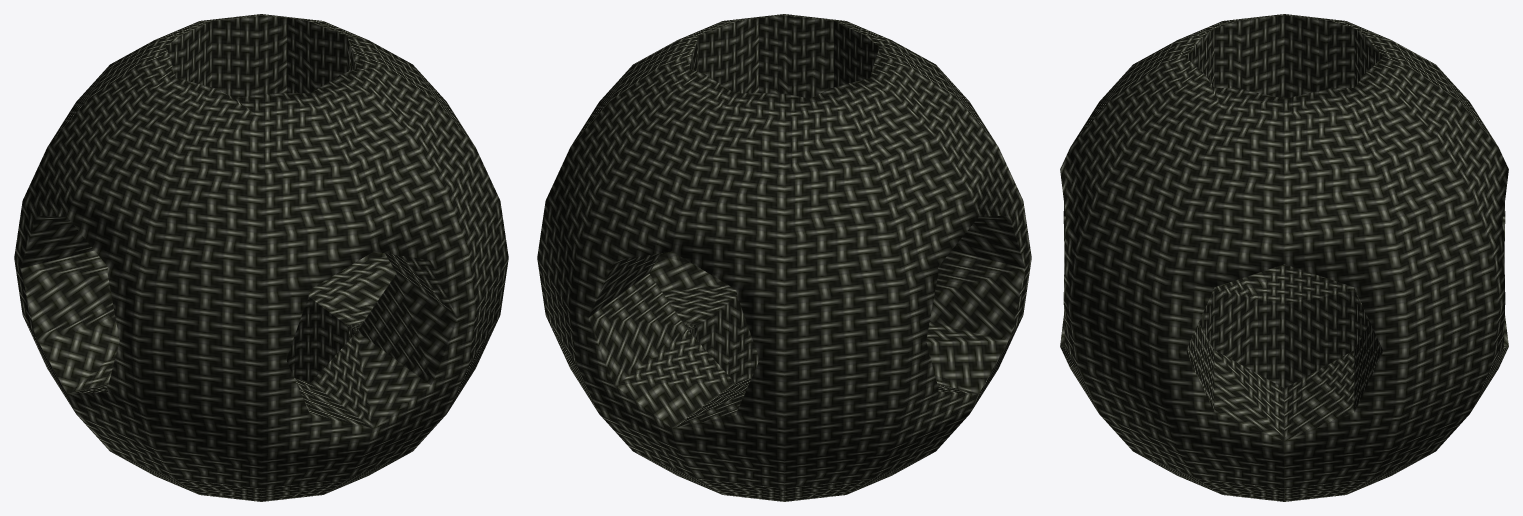
The model's file is orb.obj.
3 renders of one model, left to right at view 1: azimuth 30°, elevation 25°; view 2: azimuth 150°, elevation 25°; view 3: azimuth 270°, elevation 25°, orthographic.
Visible parts, largest first — view 1: Sphere.001_Mesh.002; view 2: Sphere.001_Mesh.002; view 3: Sphere.001_Mesh.002.
Boxes of the visible parts, x1,y1,x2,y2 form: Sphere.001_Mesh.002: [14, 14, 508, 501]; Sphere.001_Mesh.002: [537, 14, 1031, 501]; Sphere.001_Mesh.002: [1060, 14, 1508, 501].
Size of the model in its own units: 1 by 1 by 1.
Materials: 1 (1 with a texture image).
